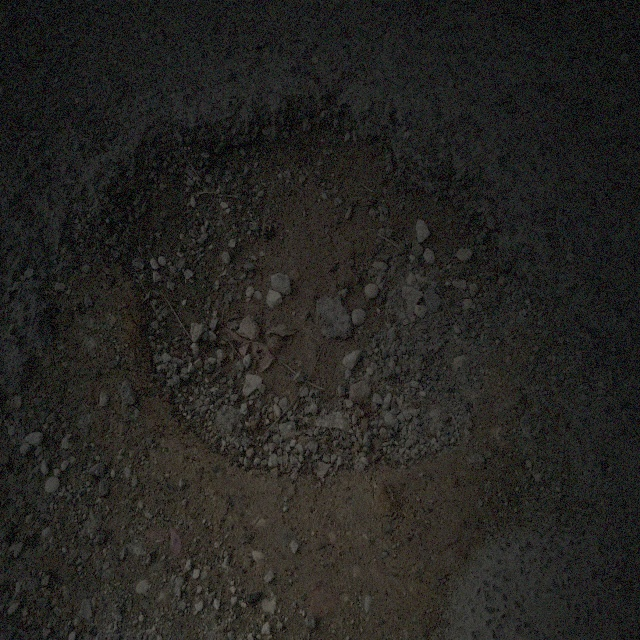pothole: (117, 95, 515, 488)
